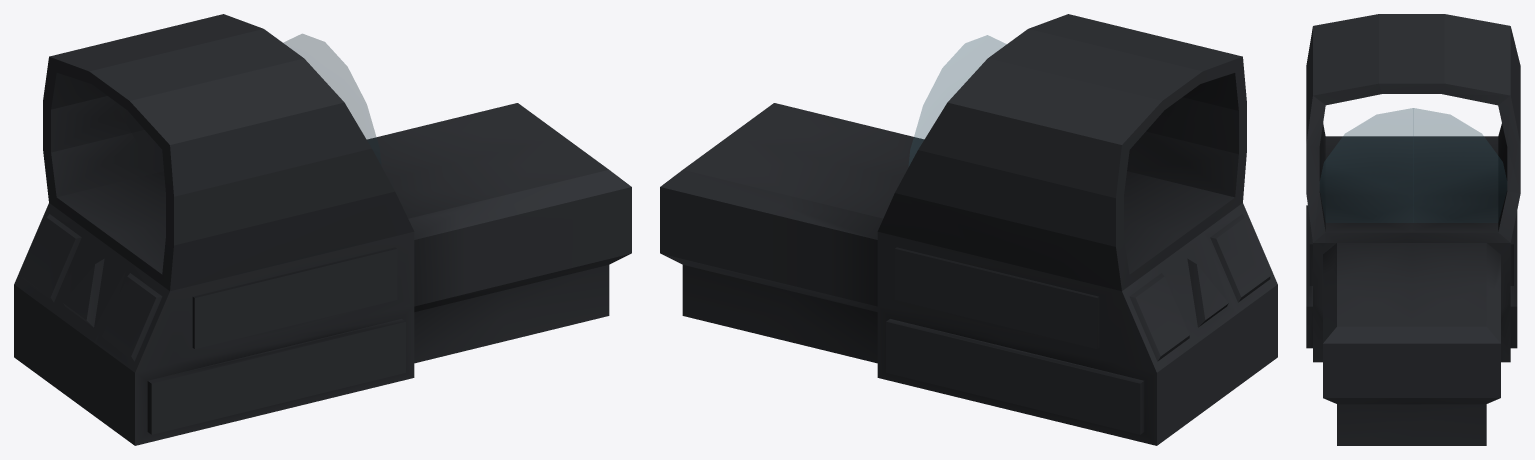
The model's file is k-att-reddot-lp4prcajasmg.glb.
3 renders of one model, left to right at view 1: azimuth 30°, elevation 25°; view 2: azimuth 150°, elevation 25°; view 3: azimuth 270°, elevation 25°, orthographic. The views are drawn at different scales.
Visible parts, largest first — view 1: kit, lens; view 2: kit, lens; view 3: kit, lens.
Boxes of the visible parts, x1=… form: kit: x1=14, y1=14, x2=631, y2=445; lens: x1=283, y1=34, x2=381, y2=165; kit: x1=660, y1=14, x2=1277, y2=445; lens: x1=908, y1=35, x2=1006, y2=166; kit: x1=1306, y1=14, x2=1520, y2=445; lens: x1=1319, y1=108, x2=1507, y2=222.
Bounding box in the file's own units: 0.0926 × 0.054 × 0.0418.
